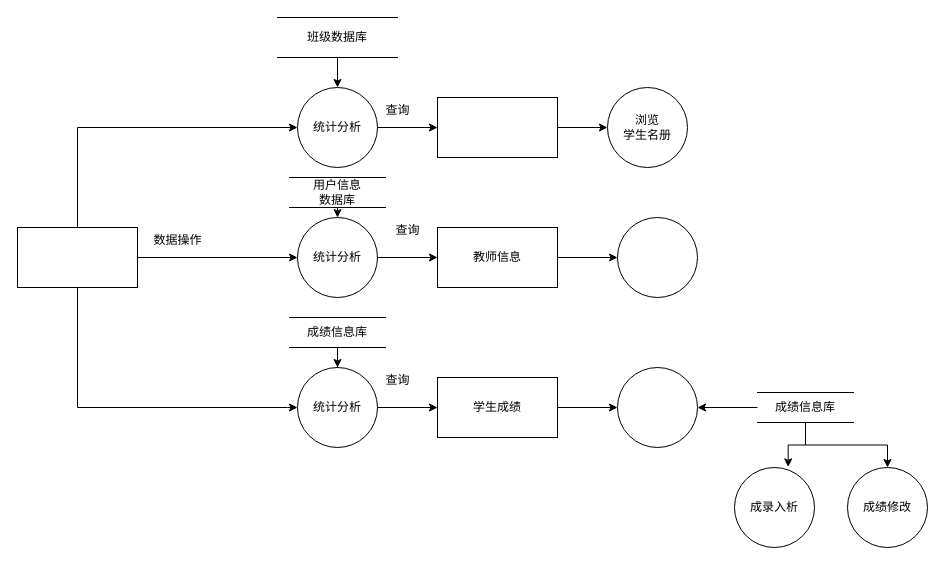
Image size: 945x565. Some labels were removed from this diagram. The centre of each missing label's shape, as x and y in pixels:
修改密码: [657,257]
学生名册: [497,127]
教师: [77,257]
统计分析成绩: [657,407]
